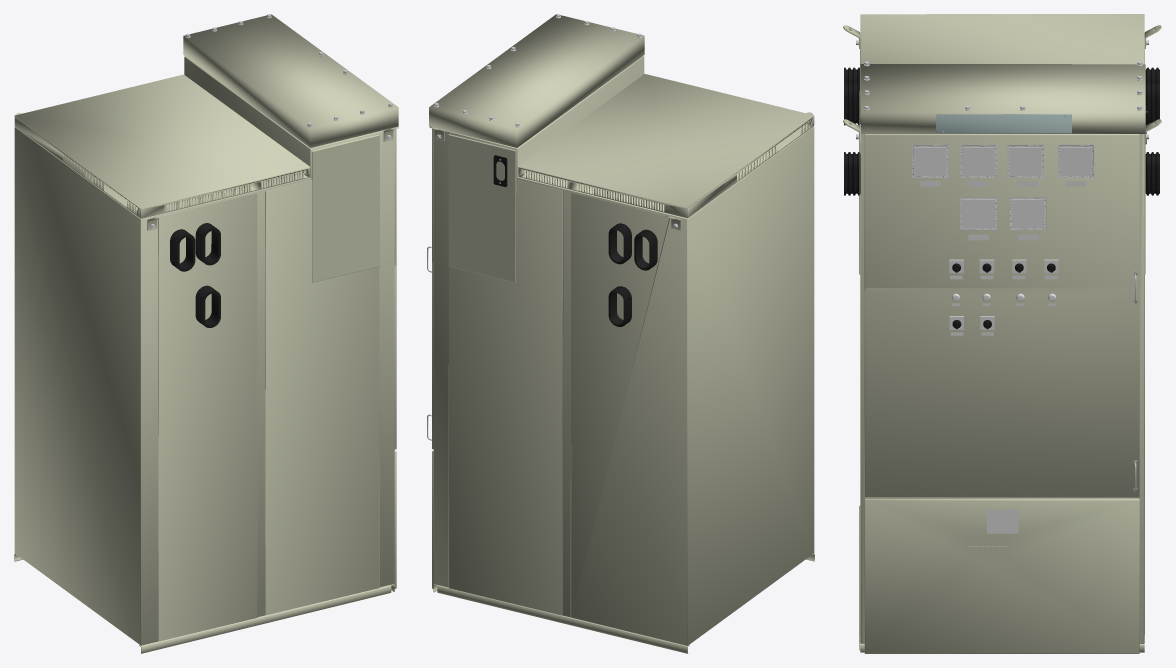
File: Section_switch.fbx
The picture shows the model from 3 angles, left to right: view 1: azimuth 30°, elevation 25°; view 2: azimuth 150°, elevation 25°; view 3: azimuth 270°, elevation 25°; orthographic projection. The views are drawn at different scales.
Visible parts, largest first — view 1: Шкаф, Накладки шин.001; view 2: Шкаф, Накладки шин; view 3: Шкаф, Подпись шкафа, Накладки шин.001, Накладки шин, Экран kV_10_2, Экран kV_10_1, Экран A, Экран V, Экран kV_220_1, Экран kV_220_2, Предупреждающий знак.
Part boxes in pixels (x1,y1,x2,y2): Шкаф: [14, 14, 398, 653]; Накладки шин.001: [170, 223, 220, 327]; Шкаф: [429, 14, 814, 653]; Накладки шин: [608, 223, 657, 326]; Шкаф: [843, 14, 1161, 653]; Подпись шкафа: [936, 114, 1071, 133]; Накладки шин.001: [844, 67, 860, 195]; Накладки шин: [1145, 67, 1159, 195]; Экран kV_10_2: [1012, 199, 1043, 228]; Экран kV_10_1: [962, 199, 993, 228]; Экран A: [1009, 147, 1041, 175]; Экран V: [962, 147, 993, 175]; Экран kV_220_1: [1060, 147, 1091, 175]; Экран kV_220_2: [914, 147, 945, 175]; Предупреждающий знак: [987, 509, 1018, 533].
Size of the model in its own units: 143 by 251 by 133.
